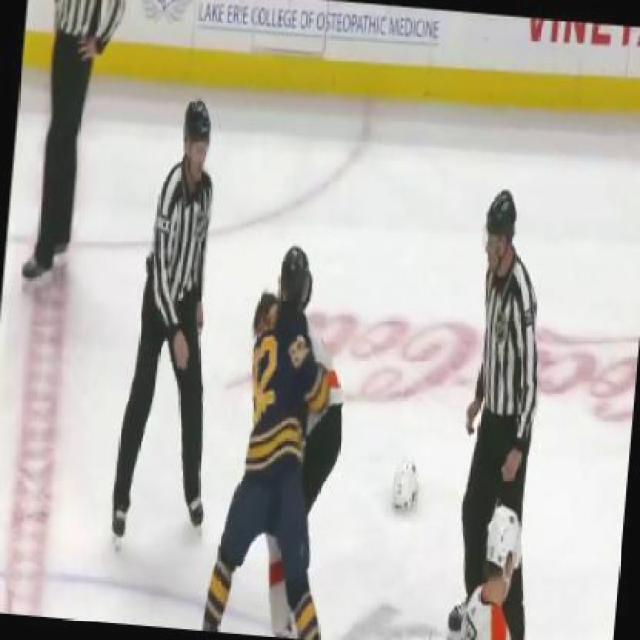fight: (206, 236, 365, 638)
non-fight: (432, 157, 596, 614), (142, 61, 214, 524)
